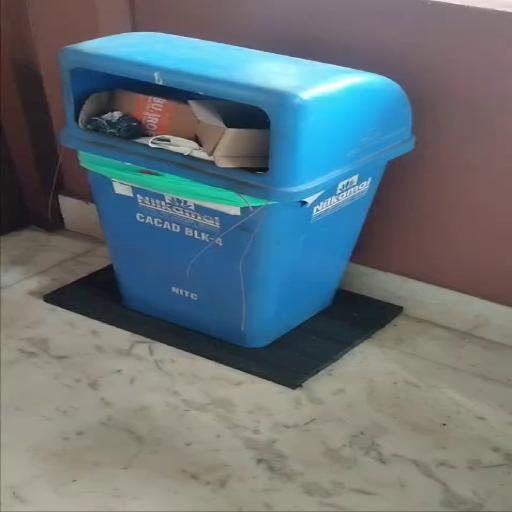Nilkamal-dustbin-detection: (62, 33, 412, 346)
